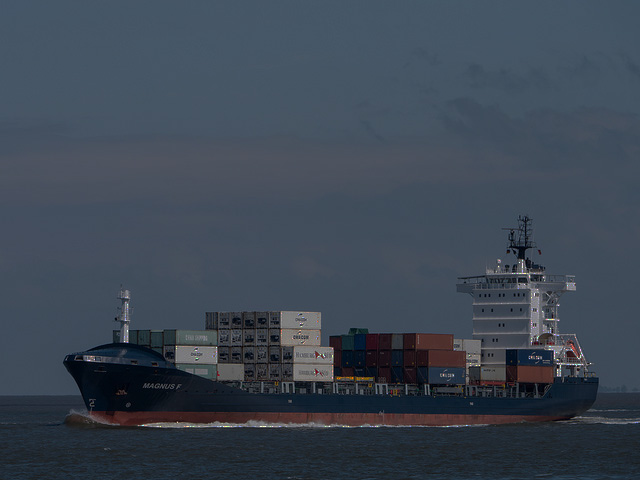container_ship: (67, 212, 601, 432)
